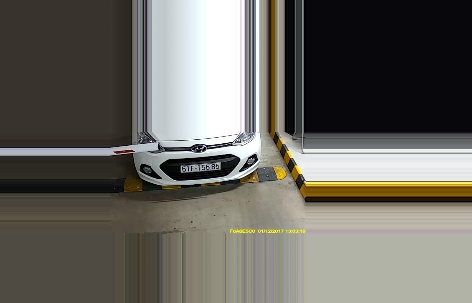plate: (178, 160, 222, 172)
